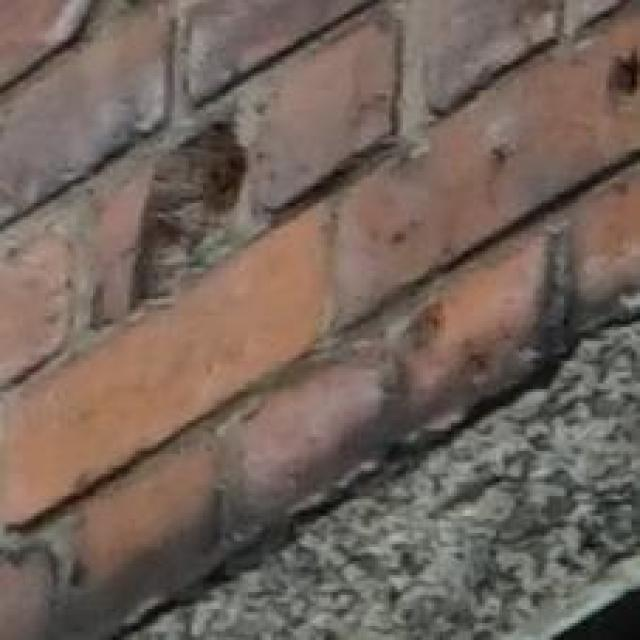Crack: (85, 75, 311, 317)
